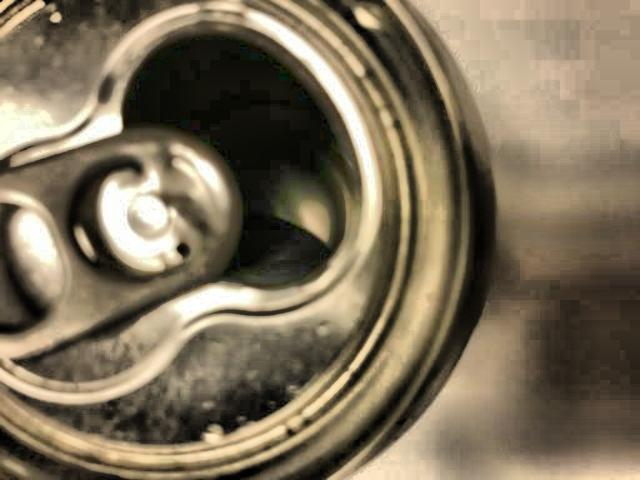Bottles: (0, 0, 511, 480)
